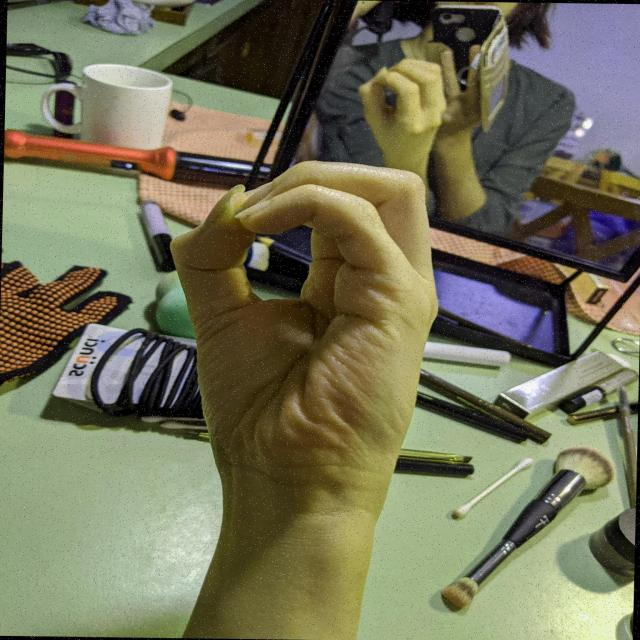O: (158, 153, 449, 528)
